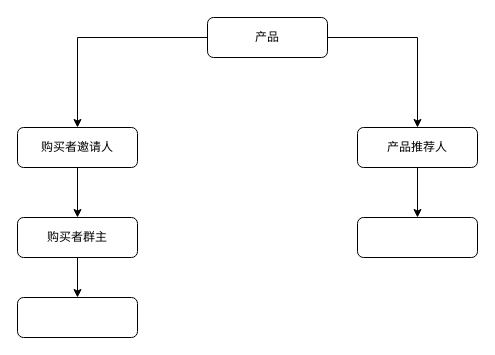
This 495x355 diagram has some shape labels left out. The shapes that lost their labels are listed below. From the top down, each one's box as (x1, y1, x2, y2) in pixels, then its label:
(356, 216, 478, 258): 产品推荐人邀请人
(16, 296, 138, 338): 群主邀请人
